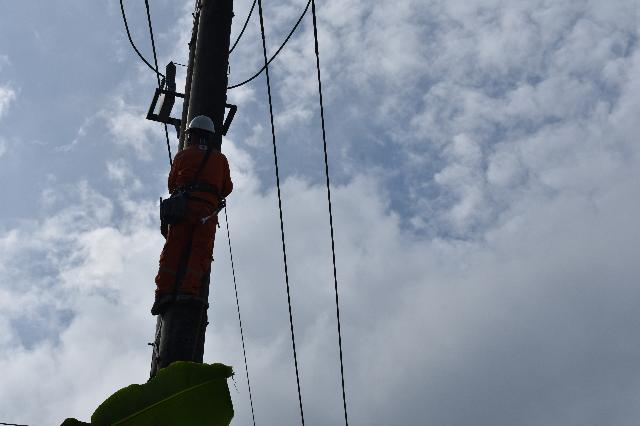harness: (171, 179, 227, 206)
helmet: (179, 111, 219, 136)
shoes: (172, 289, 212, 312), (147, 294, 184, 317)
